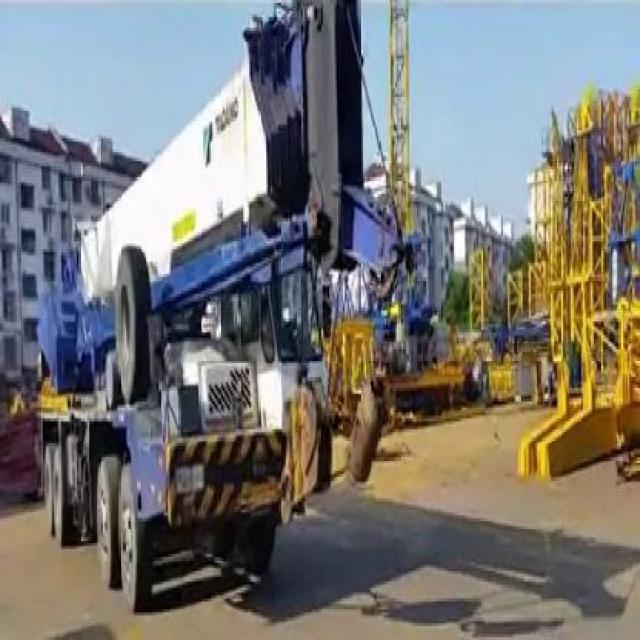Mobile Crane: (41, 0, 396, 602)
